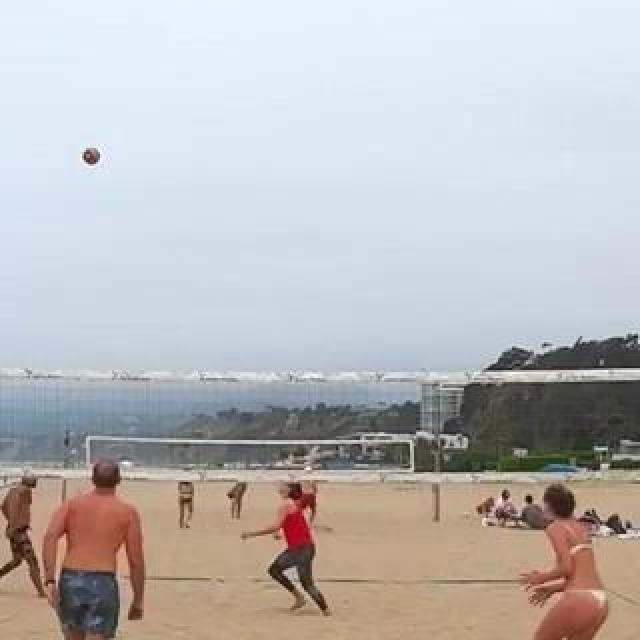volleyball: (82, 148, 100, 166)
